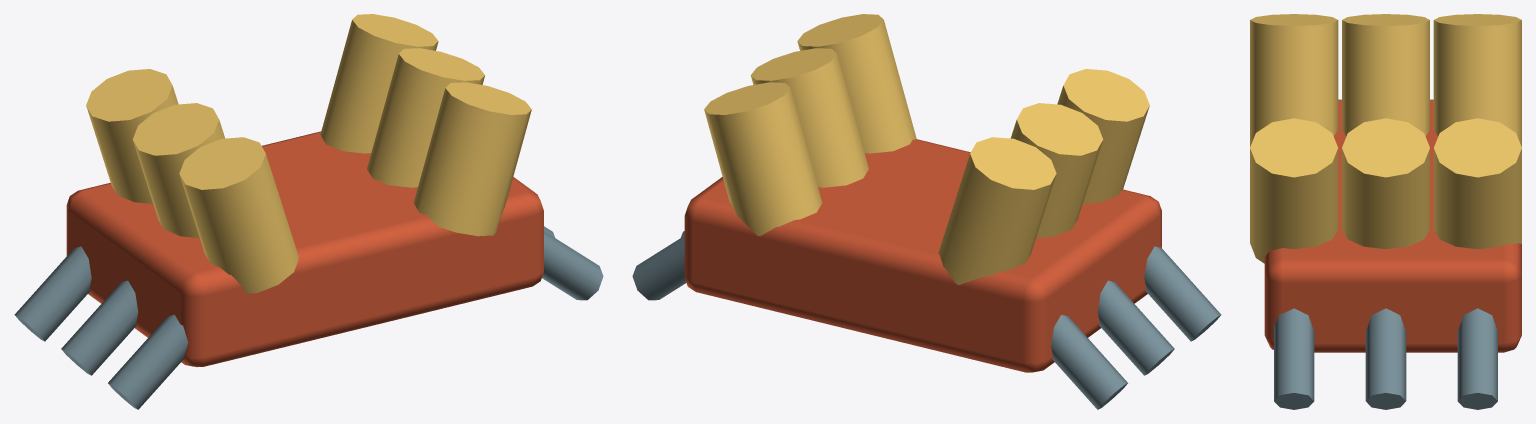
Rendered from upgrade-salvage_v6.glb.
3 views of the same model, side by side, from view 1: azimuth 30°, elevation 25°; view 2: azimuth 150°, elevation 25°; view 3: azimuth 270°, elevation 25° (orthographic).
Visible parts, largest first — view 1: upgrade-salvage_v6; view 2: upgrade-salvage_v6; view 3: upgrade-salvage_v6.
Boxes of the visible parts, x1=… form: upgrade-salvage_v6: x1=14, y1=14, x2=603, y2=409; upgrade-salvage_v6: x1=632, y1=14, x2=1221, y2=409; upgrade-salvage_v6: x1=1250, y1=14, x2=1521, y2=409.
Bounding box in the file's own units: 1.51 × 0.6949 × 0.74.
